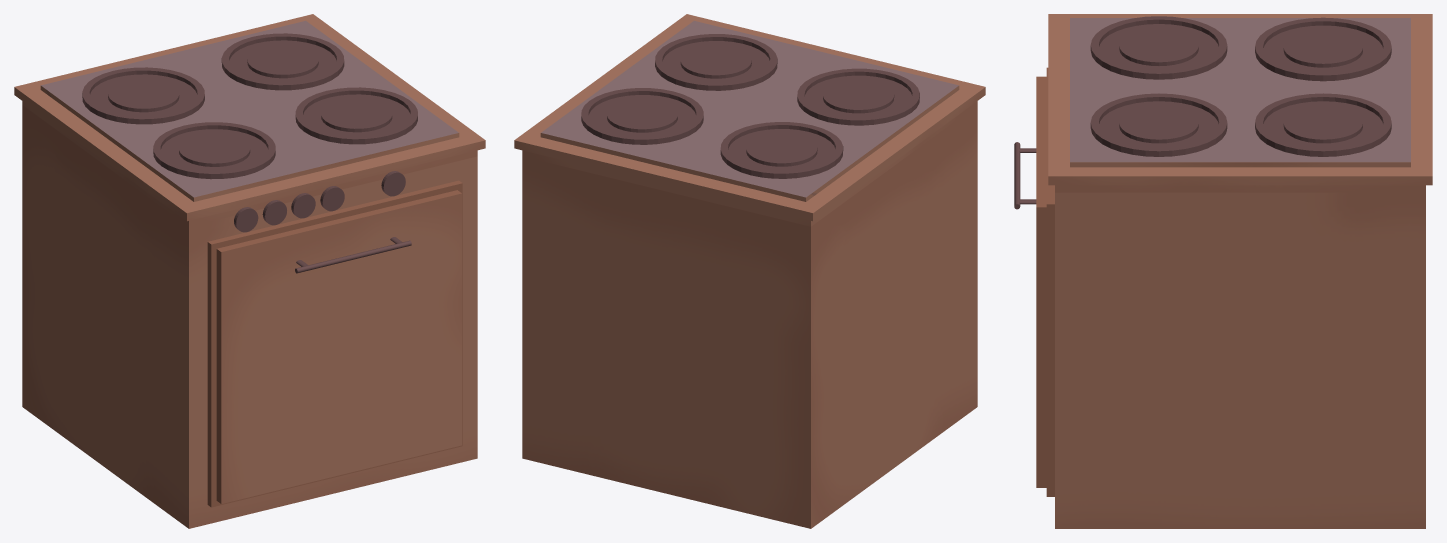
Rendered from oven shump asset.fbx.
3 views of the same model, side by side, from view 1: azimuth 30°, elevation 25°; view 2: azimuth 150°, elevation 25°; view 3: azimuth 270°, elevation 25° (orthographic). The views are drawn at different scales.
Parts seen in each view (by area): view 1: oven; view 2: oven; view 3: oven.
Boxes of the visible parts, x1=… form: oven: x1=14, y1=14, x2=485, y2=528; oven: x1=514, y1=14, x2=985, y2=528; oven: x1=1014, y1=14, x2=1432, y2=528.
Bounding box in the file's own units: 303 × 319 × 330.
